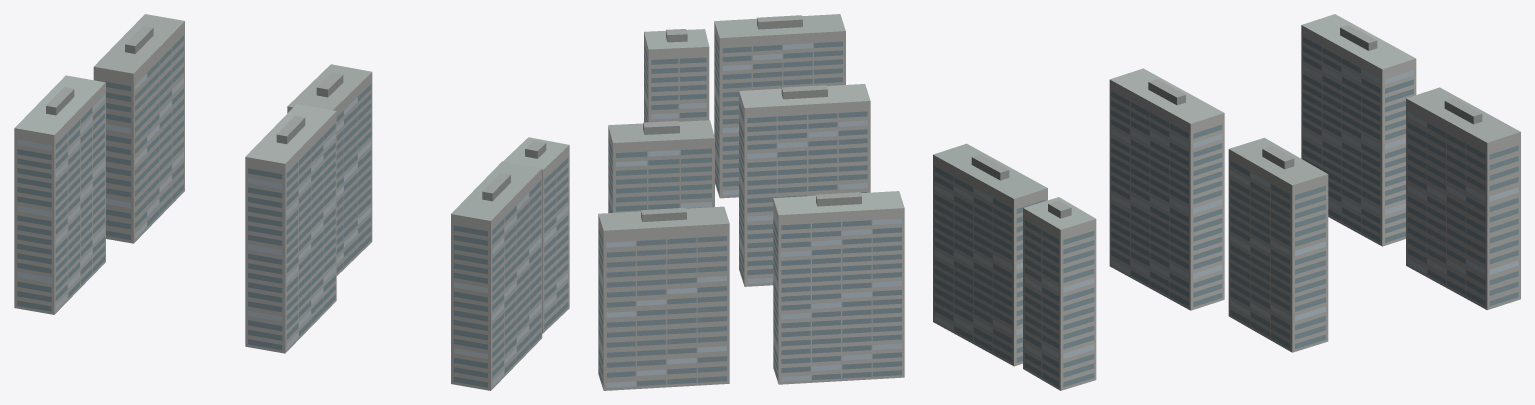
The model's file is apt-a10027716.glb.
3 renders of one model, left to right at view 1: azimuth 30°, elevation 25°; view 2: azimuth 150°, elevation 25°; view 3: azimuth 270°, elevation 25°, orthographic. The views are drawn at different scales.
Visible parts, largest first — view 1: apt-a10027716; view 2: apt-a10027716; view 3: apt-a10027716.
Boxes of the visible parts, left/top/right/bottom form: apt-a10027716: left=14, top=14, right=569, bottom=390; apt-a10027716: left=598, top=14, right=904, bottom=390; apt-a10027716: left=933, top=14, right=1520, bottom=390.
Bounding box in the file's own units: 132 × 60 × 164.
